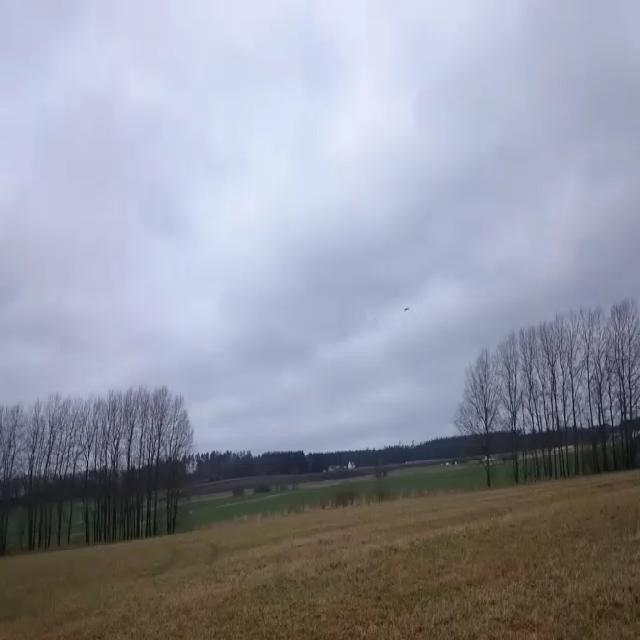Drone: (384, 285, 419, 322)
